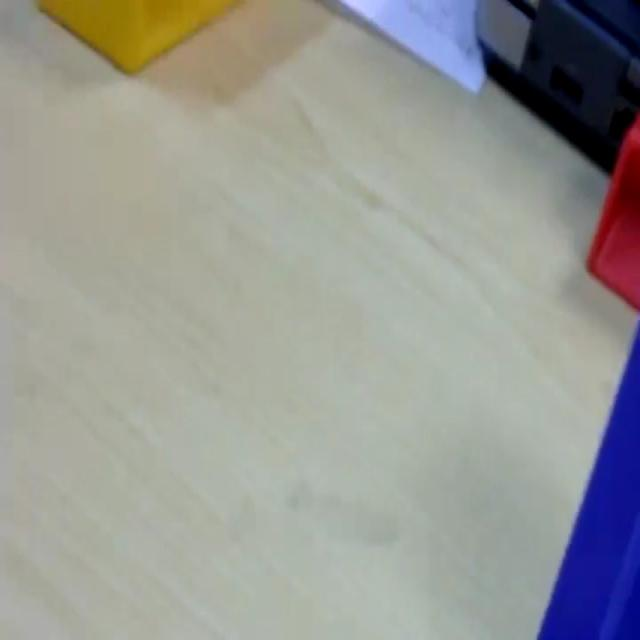red_block: (584, 110, 638, 310)
yellow_block: (37, 0, 242, 75)
